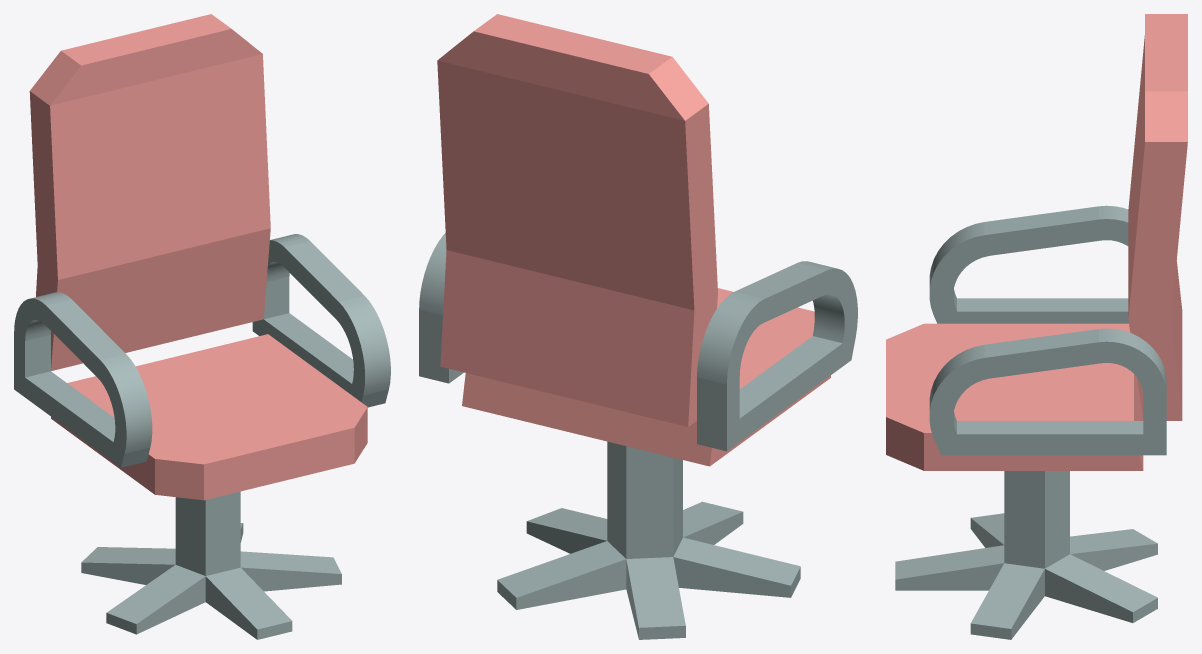
The model's file is chairDesk.glb.
3 views of the same model, side by side, from view 1: azimuth 30°, elevation 25°; view 2: azimuth 150°, elevation 25°; view 3: azimuth 270°, elevation 25° (orthographic). The views are drawn at different scales.
Visible parts, largest first — view 1: chair, chairDesk(Clone); view 2: chair, chairDesk(Clone); view 3: chair, chairDesk(Clone).
Part boxes in pixels (bbox=[...]): chair: bbox=[14, 14, 390, 500]; chairDesk(Clone): bbox=[81, 491, 341, 639]; chair: bbox=[419, 14, 857, 466]; chairDesk(Clone): bbox=[497, 441, 800, 639]; chair: bbox=[886, 14, 1187, 470]; chairDesk(Clone): bbox=[895, 471, 1157, 639].
Bounding box in the file's own units: 0.335 × 0.6076 × 0.3143.
